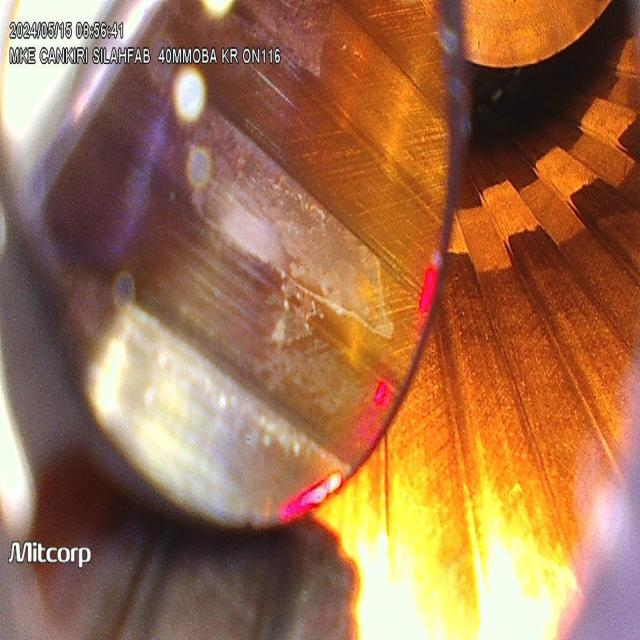hata_8.2: (186, 77, 387, 344), (226, 0, 353, 90)
